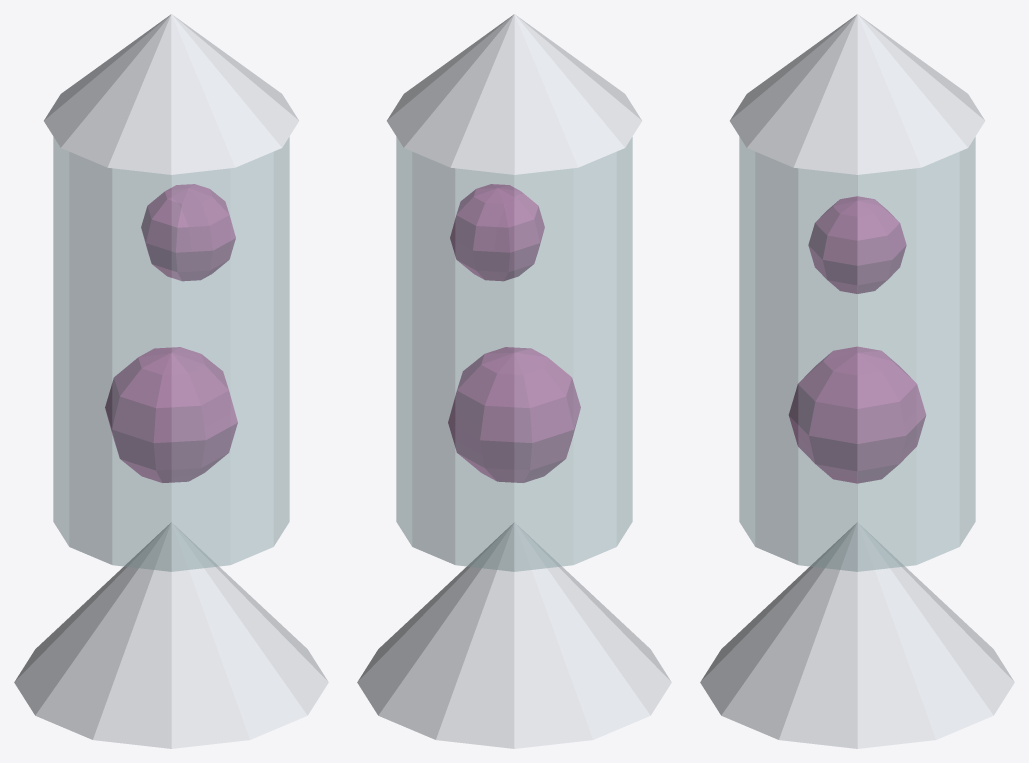
Rendered from retro-arcade-and-mall-1989-lava-lamp-f47fa4d0__15561.glb.
3 renders of one model, left to right at view 1: azimuth 30°, elevation 25°; view 2: azimuth 150°, elevation 25°; view 3: azimuth 270°, elevation 25°, orthographic.
Parts seen in each view (by area): view 1: lava-lamp; view 2: lava-lamp; view 3: lava-lamp.
Boxes of the visible parts, bbox=[...] form: lava-lamp: bbox=[14, 14, 328, 748]; lava-lamp: bbox=[357, 14, 671, 748]; lava-lamp: bbox=[700, 14, 1014, 748].
Size of the model in its own units: 0.32 by 0.75 by 0.32.
